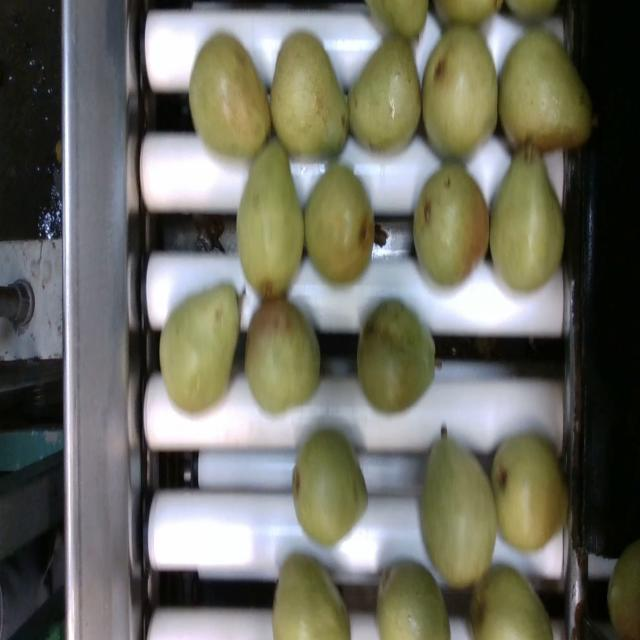pears: (418, 427, 500, 597), (498, 30, 595, 154), (489, 142, 565, 297), (237, 135, 305, 303), (267, 32, 351, 167), (158, 285, 243, 417), (188, 35, 273, 162), (421, 27, 500, 161), (301, 164, 380, 289), (412, 165, 490, 291), (490, 435, 570, 557), (356, 300, 437, 417), (291, 432, 369, 550), (348, 33, 422, 157), (246, 299, 321, 416), (272, 555, 352, 640), (475, 565, 555, 640), (377, 563, 452, 640)
